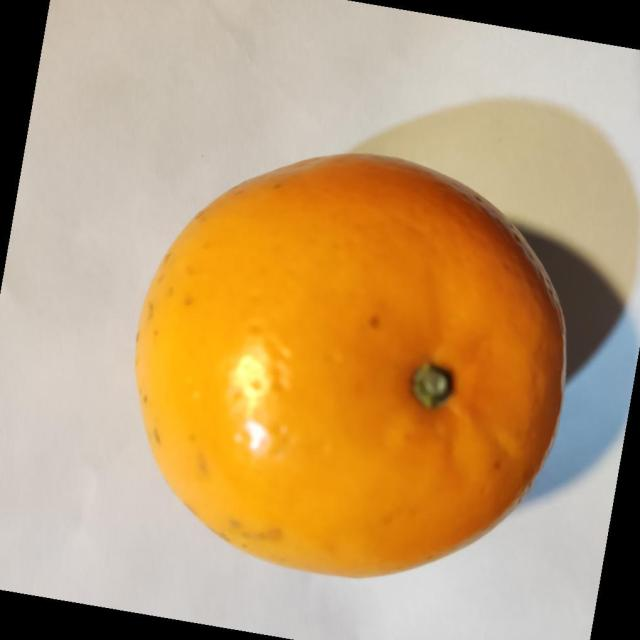fresh orange: (134, 151, 567, 578)
